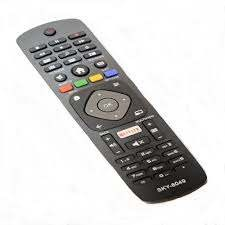remote control: (14, 13, 219, 207)
